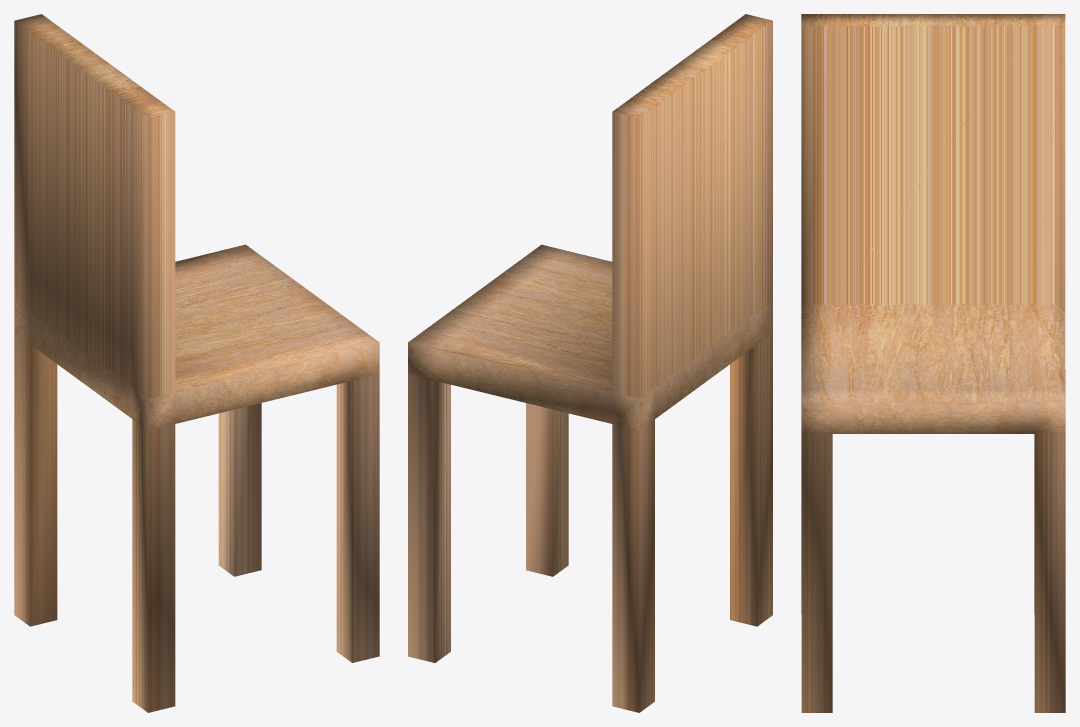
The model's file is silla.obj.
The picture shows the model from 3 angles, left to right: view 1: azimuth 30°, elevation 25°; view 2: azimuth 150°, elevation 25°; view 3: azimuth 270°, elevation 25°; orthographic projection.
Parts seen in each view (by area): view 1: Box016; view 2: Box016; view 3: Box016.
Part boxes in pixels (x1,y1,x2,y2): Box016: (14, 14, 379, 712); Box016: (408, 14, 772, 712); Box016: (801, 14, 1065, 712).
Size of the model in its own units: 6.3 by 15.47 by 6.3.
1 material, 1 textured.
